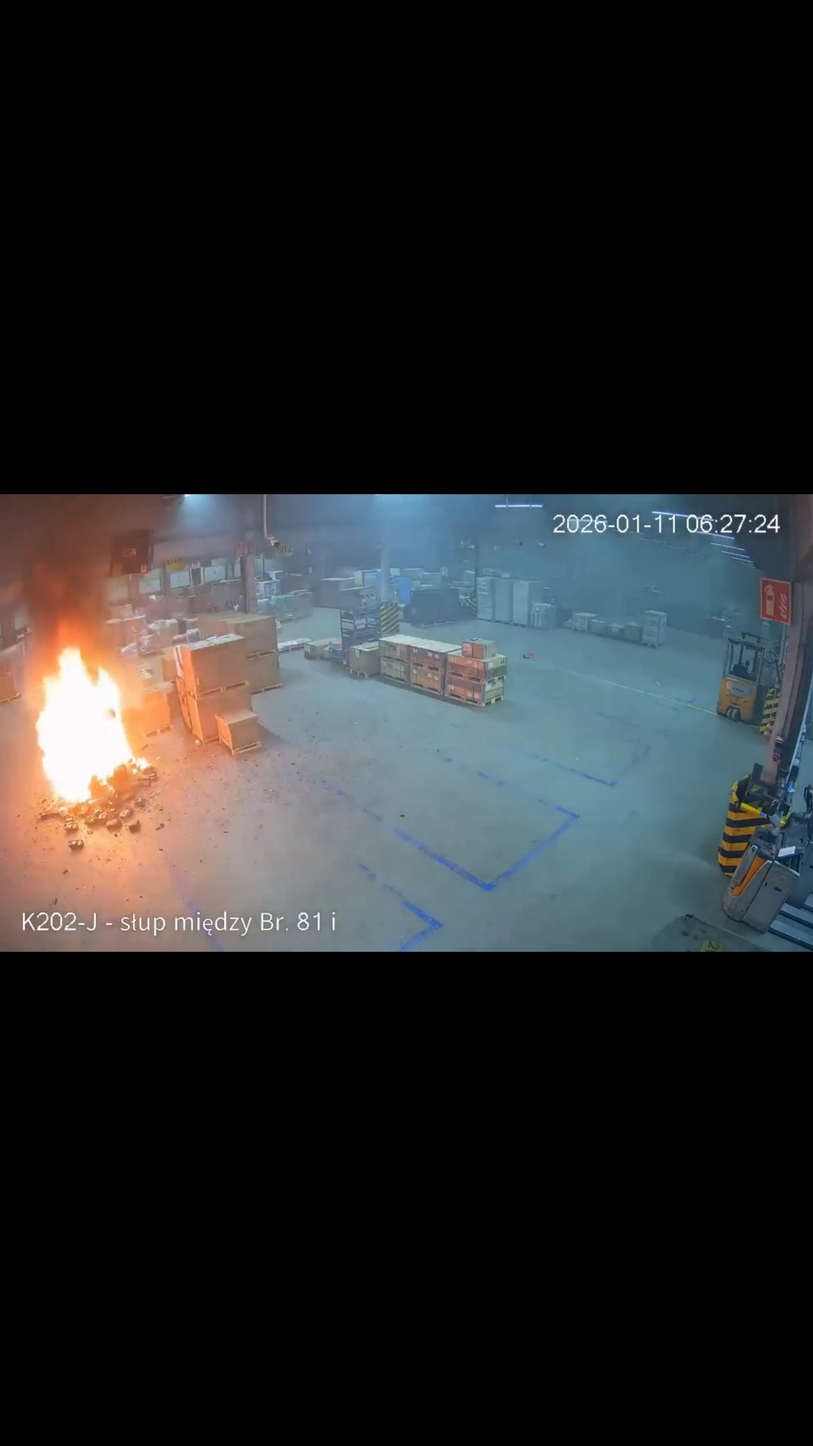fire: (13, 645, 158, 800)
